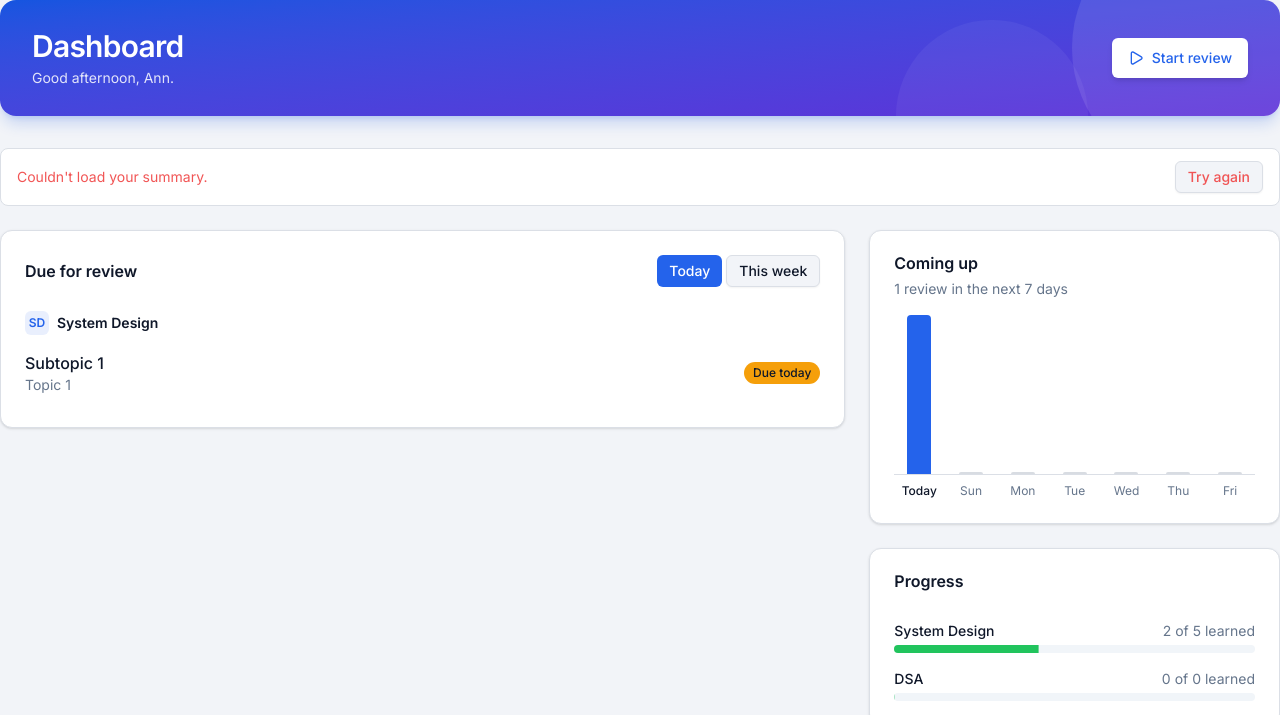
stat tiles › offers a retry when it fails — without disturbing the rest of the page
The image size is (1280, 715).
Expected: the text "Couldn't load your summary." is shown, 17,168 -> 208,185
Expected: the link "Subtopic 1" is shown, 25,353 -> 104,373
Click the button "Try again".
click(1219, 177)  # box 1175,161 -> 1263,193
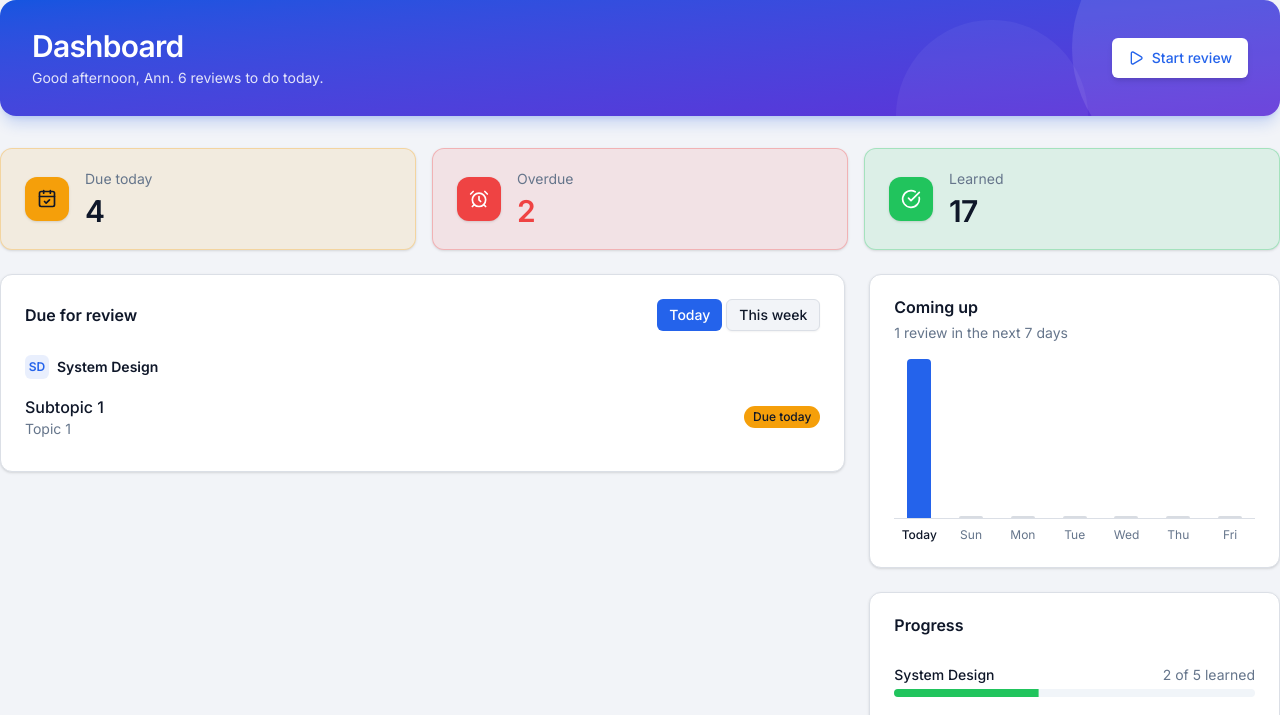
Now the text "17" is shown, box 949,193 -> 978,229
